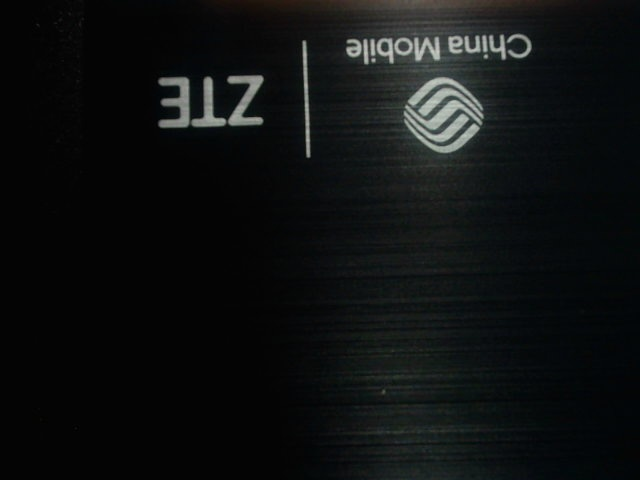AL_ZTEChinaMobile: (145, 25, 544, 161)
